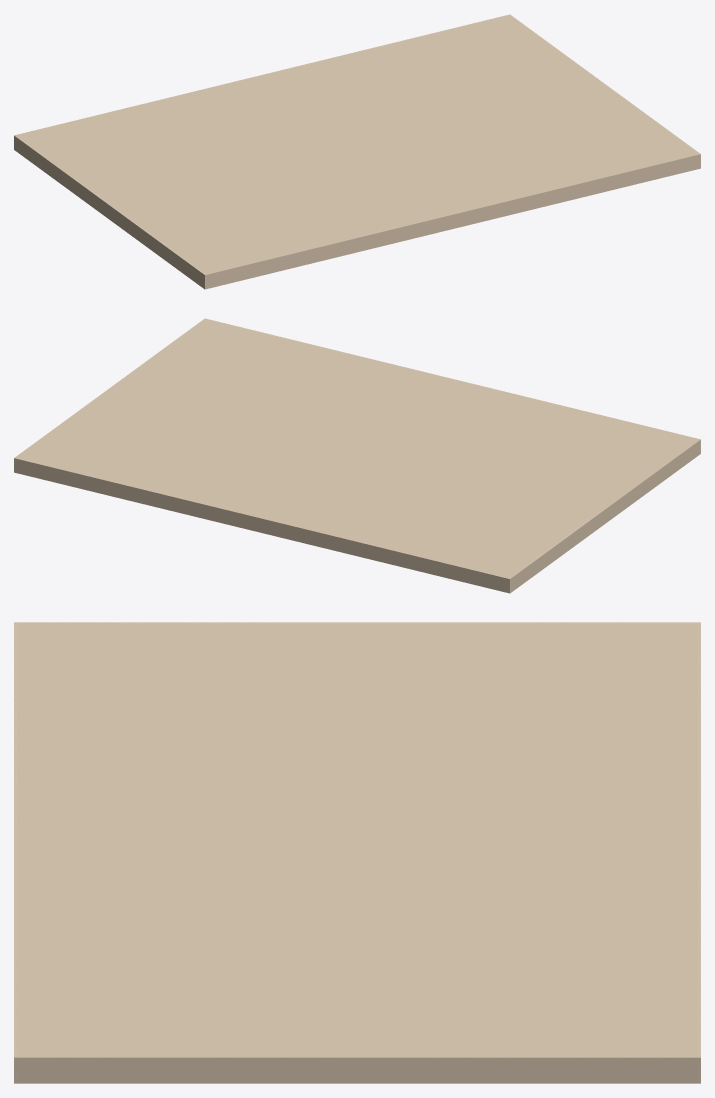
File: v2-real-table-0.glb
3 renders of one model, top to bottom at view 1: azimuth 30°, elevation 25°; view 2: azimuth 150°, elevation 25°; view 3: azimuth 270°, elevation 25°, orthographic. The views are drawn at different scales.
Bounding box in the file's own units: 900 × 60 × 600.
